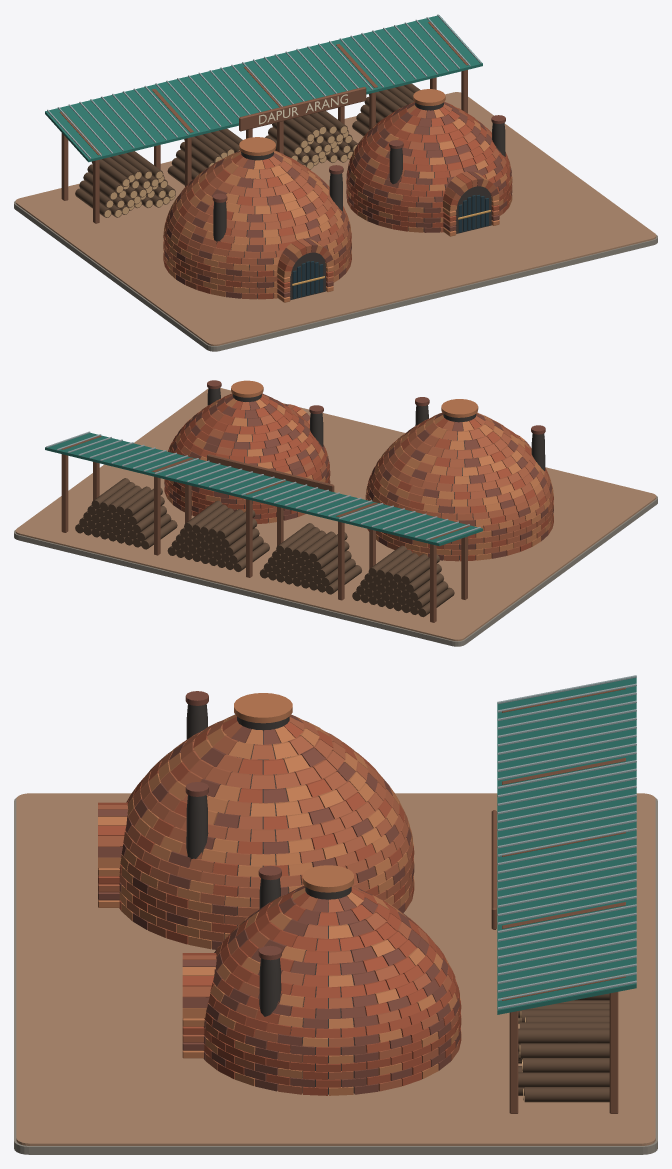
3 views of the same model, one above another, from view 1: azimuth 30°, elevation 25°; view 2: azimuth 150°, elevation 25°; view 3: azimuth 270°, elevation 25° (orthographic). The views are drawn at different scales.
Parts seen in each view (by area): view 1: Firing Yard, Billet Shelter, Corbelled Kilns, Firing Mouths; view 2: Firing Yard, Billet Shelter, Corbelled Kilns; view 3: Firing Yard, Corbelled Kilns, Billet Shelter, Firing Mouths.
Part boxes in pixels (left/top/right/bottom): Firing Yard: left=14, top=92, right=657, bottom=351; Billet Shelter: left=45, top=14, right=482, bottom=223; Corbelled Kilns: left=163, top=89, right=512, bottom=299; Firing Mouths: left=277, top=171, right=499, bottom=302; Firing Yard: left=14, top=388, right=657, bottom=646; Billet Shelter: left=45, top=431, right=482, bottom=622; Corbelled Kilns: left=164, top=380, right=553, bottom=561; Firing Yard: left=14, top=793, right=657, bottom=1154; Corbelled Kilns: left=119, top=691, right=461, bottom=1095; Billet Shelter: left=491, top=675, right=636, bottom=1113; Firing Mouths: left=98, top=802, right=216, bottom=1058.
Size of the model in its own units: 22 by 5.66 by 17.
